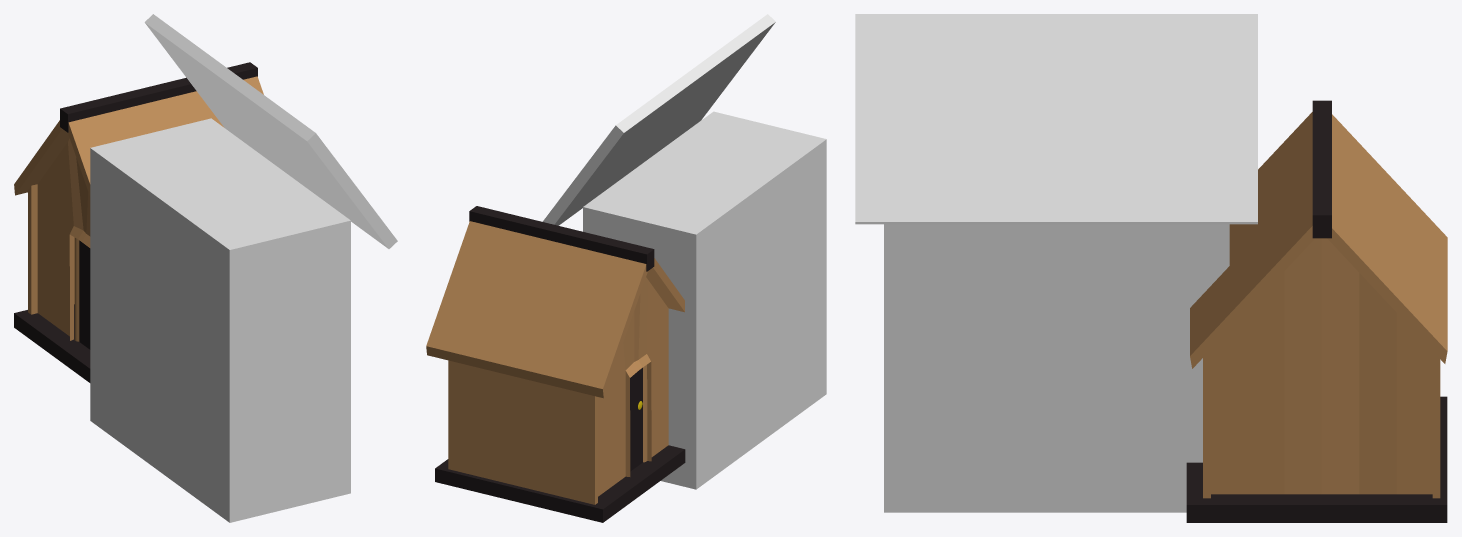
File: Fuse Shed.fbx
3 views of the same model, side by side, from view 1: azimuth 30°, elevation 25°; view 2: azimuth 150°, elevation 25°; view 3: azimuth 270°, elevation 25° (orthographic). The views are drawn at different scales.
Parts seen in each view (by area): view 1: Cube, Cube.001, Plane; view 2: Cube.001, Cube, Plane; view 3: Cube, Cube.001, Plane.
Part boxes in pixels (x1=…): Cube: x1=90, y1=118, x2=350, y2=522; Cube.001: x1=14, y1=62, x2=263, y2=382; Plane: x1=144, y1=14, x2=397, y2=248; Cube.001: x1=426, y1=206, x2=685, y2=522; Cube: x1=583, y1=111, x2=826, y2=489; Plane: x1=542, y1=14, x2=775, y2=225; Cube: x1=884, y1=224, x2=1229, y2=512; Cube.001: x1=1186, y1=100, x2=1447, y2=522; Plane: x1=855, y1=14, x2=1257, y2=224.
Bounding box in the file's own units: 339 × 612 × 698.
